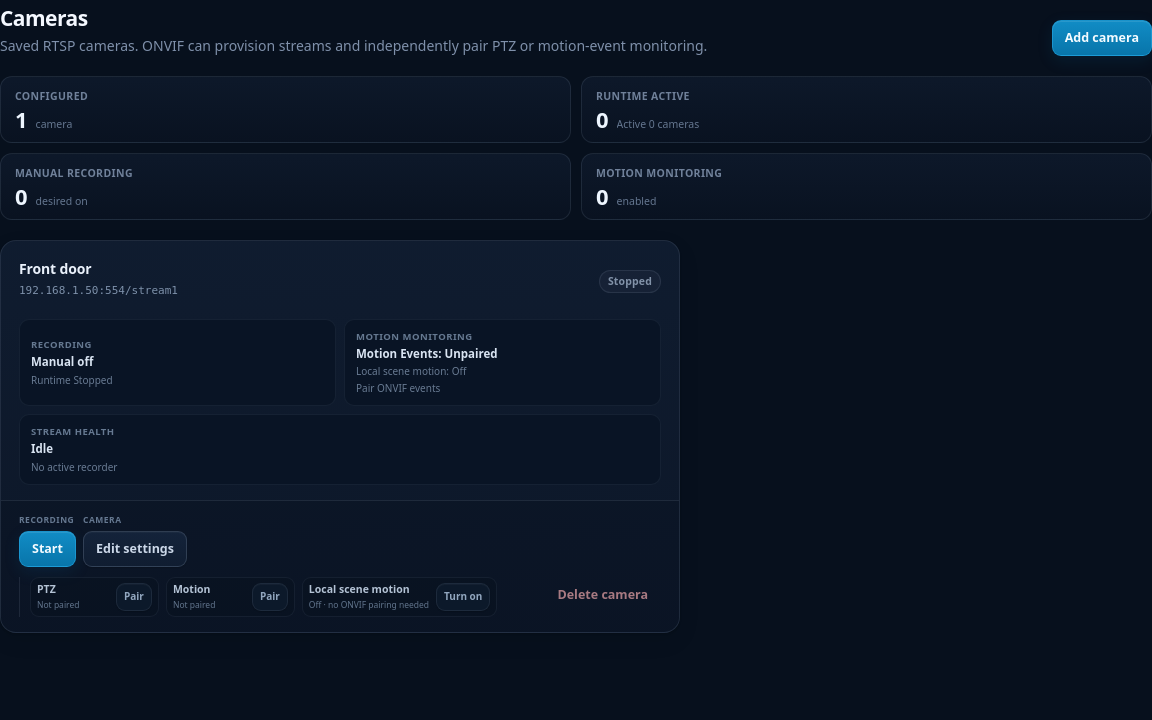
Test: CamerasScreen › does not let a slow camera reload undo a newer Local Motion mutation
Expected: the button with aria-label "Enable Local Motion" is shown, left=436, top=583, right=490, bottom=611
Click the button "Edit settings".
click(135, 549)  # box left=83, top=531, right=187, bottom=567
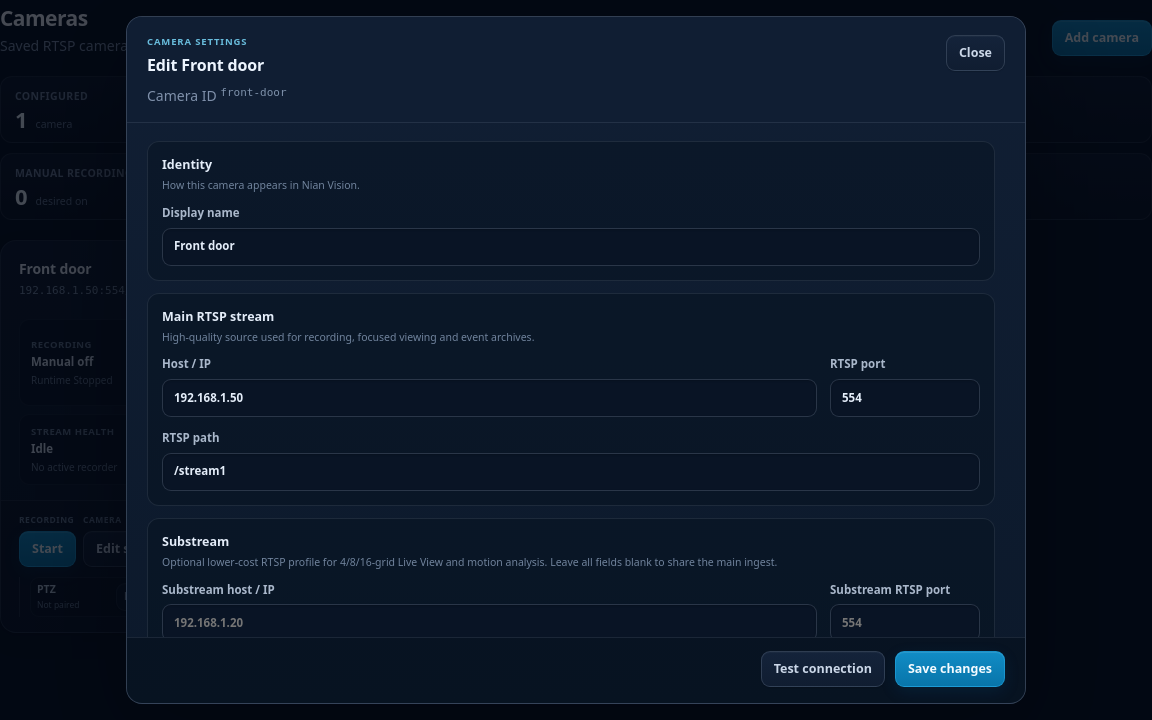
Click the button "Save changes".
click(950, 669)  # box left=895, top=651, right=1005, bottom=687
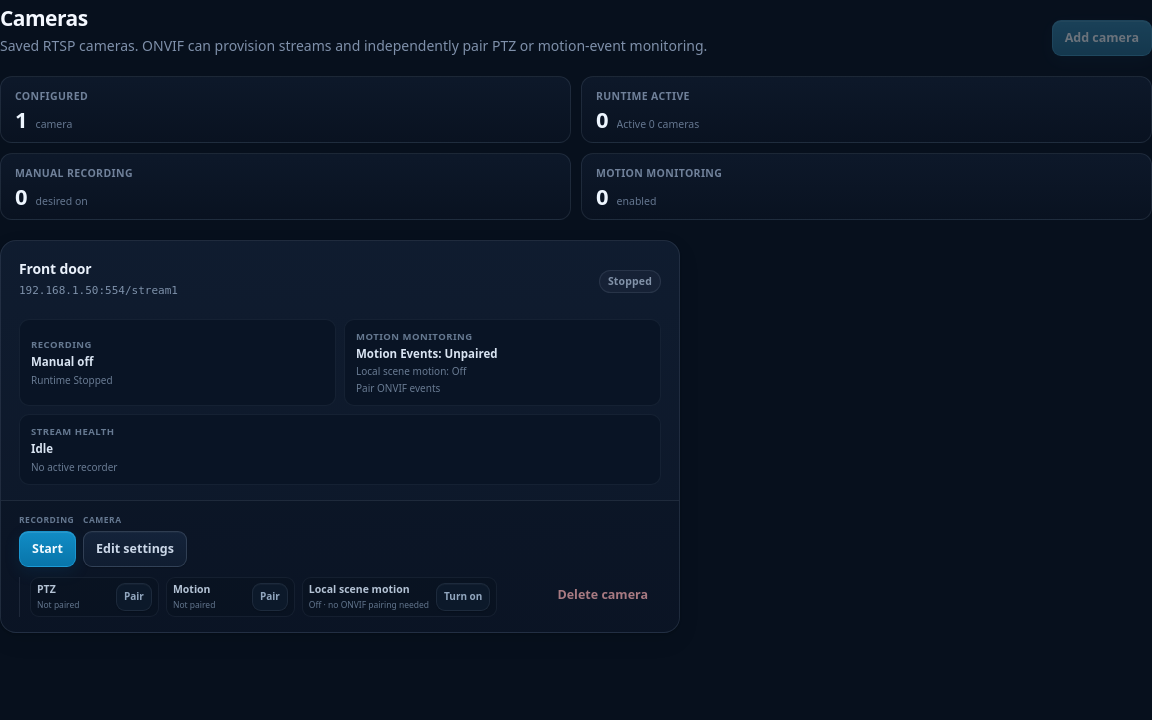
Click the button with aria-label "Enable Local Motion".
click(463, 597)  # box left=436, top=583, right=490, bottom=611
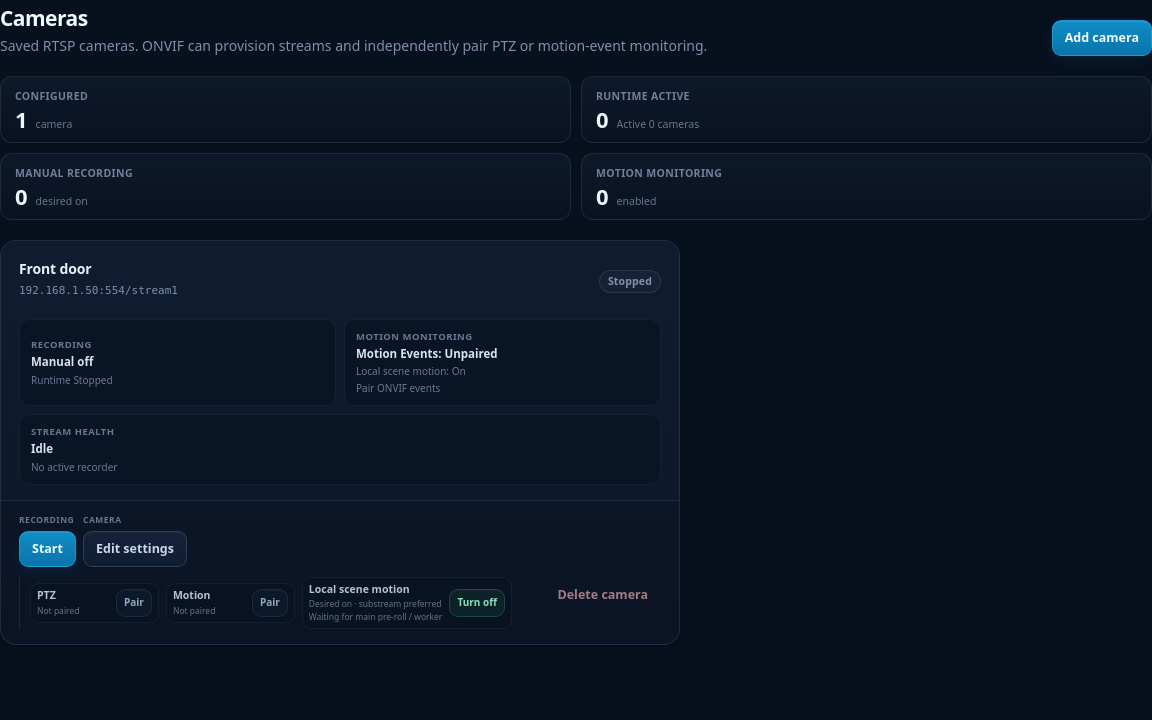
Now the button with aria-label "Disable Local Motion" is shown, box left=449, top=589, right=505, bottom=617
Now the text "Local scene motion: On" is shown, box left=356, top=364, right=466, bottom=378
